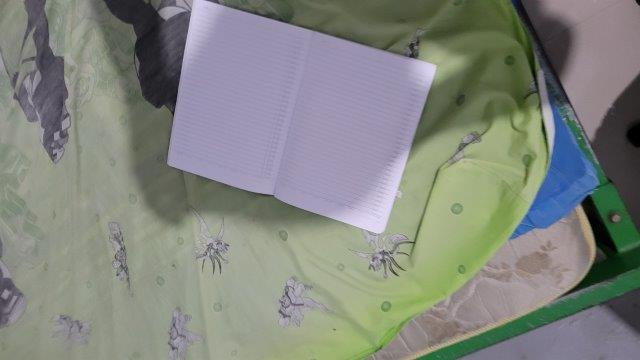kertas: (167, 1, 437, 232)
